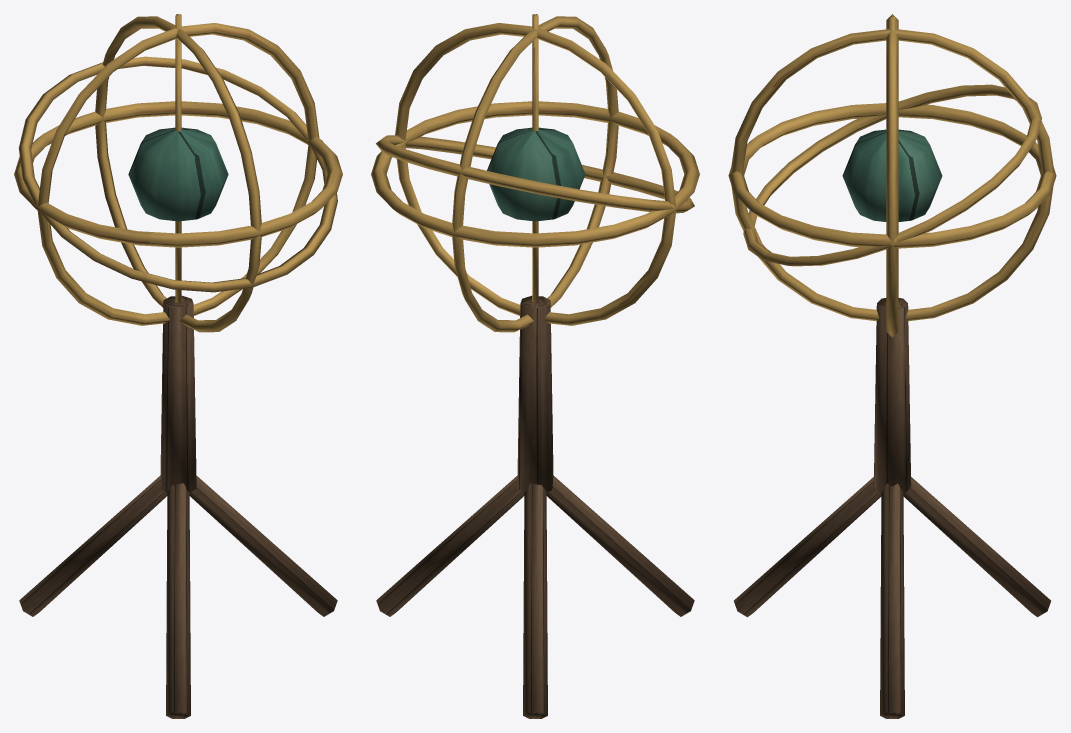
File: Armillary_Sphere_1.gltf
3 renders of one model, left to right at view 1: azimuth 30°, elevation 25°; view 2: azimuth 150°, elevation 25°; view 3: azimuth 270°, elevation 25°, orthographic.
Parts seen in each view (by area): view 1: Armillary_Sphere_1; view 2: Armillary_Sphere_1; view 3: Armillary_Sphere_1.
Boxes of the visible parts, x1,y1,x2,y2 form: Armillary_Sphere_1: [14, 14, 342, 718]; Armillary_Sphere_1: [371, 14, 699, 718]; Armillary_Sphere_1: [728, 14, 1056, 718].
Size of the model in its own units: 1.1 by 2.23 by 1.05.
Materials: 3 (3 with a texture image).
